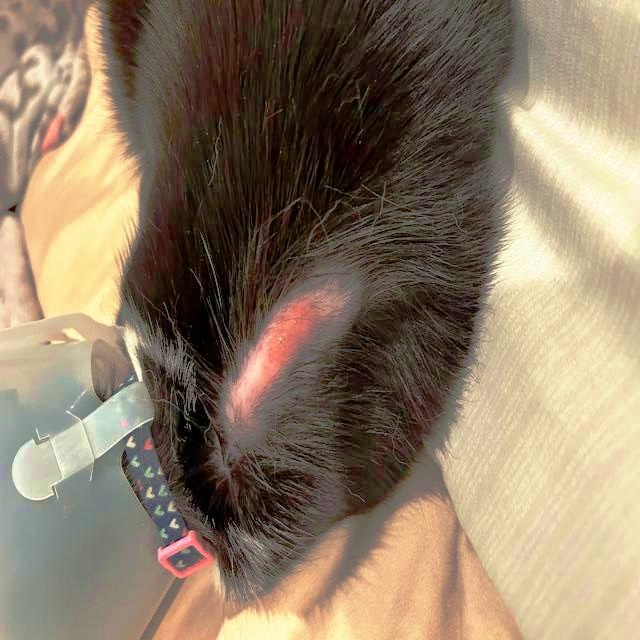hairloss: (214, 286, 351, 444)
